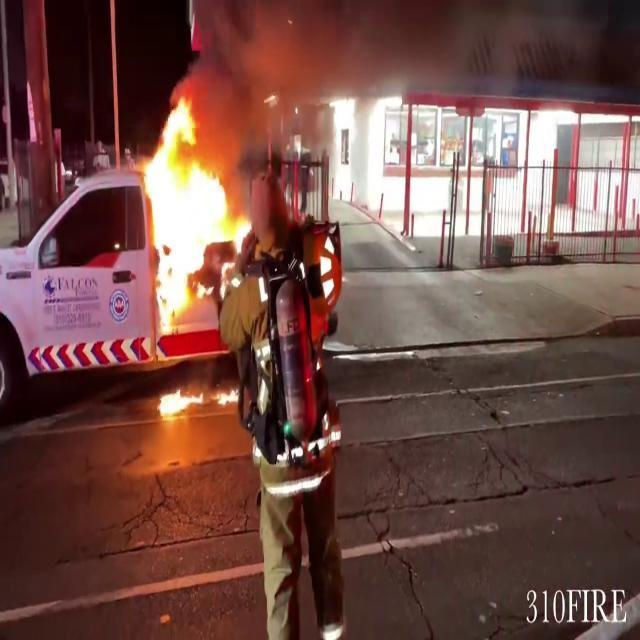Fire: (137, 93, 255, 333), (153, 378, 205, 424)
